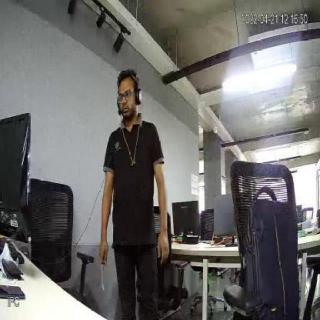knife: (98, 254, 110, 296)
